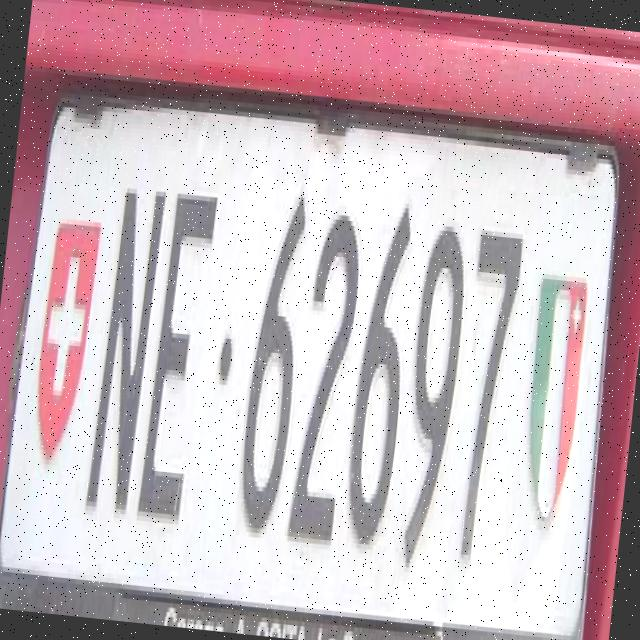Autre: (0, 95, 617, 636)
